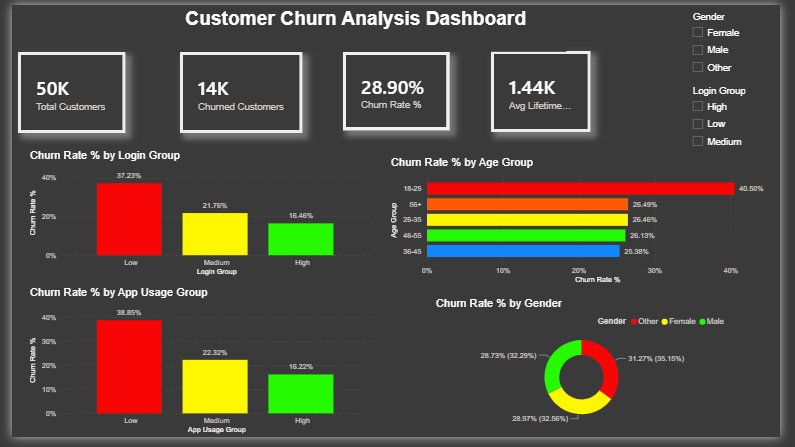

This screenshot's page, from the dashboard's own definition file:
{"tool":"powerbi","page":{"name":"Executive Dashboard","canvas":[1280,720],"ordinal":0},"visuals":[{"type":"clusteredBarChart","fields":{"Category":["ecommerce_customer_churn_dataset.Age Group"],"Y":["ecommerce_customer_churn_dataset.Churn Rate %"]},"box":[627.4,251.3,652.4,217.5],"z":0},{"type":"donutChart","fields":{"Category":["ecommerce_customer_churn_dataset.Gender"],"Y":["ecommerce_customer_churn_dataset.Churn Rate %"]},"box":[700.9,486.4,495.2,217.5],"z":1000},{"type":"clusteredColumnChart","fields":{"Y":["ecommerce_customer_churn_dataset.Churn Rate %"],"Category":["ecommerce_customer_churn_dataset.Login Group"]},"box":[25,239.5,578.9,216],"z":3000},{"type":"clusteredColumnChart","fields":{"Y":["ecommerce_customer_churn_dataset.Churn Rate %"],"Category":["ecommerce_customer_churn_dataset.App Usage Group"]},"box":[25,468.7,578.9,251.3],"z":4000},{"type":"cardVisual","fields":{"Data":["ecommerce_customer_churn_dataset.Total Customers"]},"box":[10.3,77.9,179.3,135.2],"z":5000},{"type":"cardVisual","fields":{"Data":["ecommerce_customer_churn_dataset.Churned Customers"]},"box":[279.2,77.9,204.2,135.2],"z":6000},{"type":"cardVisual","fields":{"Data":["ecommerce_customer_churn_dataset.Churn Rate %"]},"box":[551,77.9,177.8,130.8],"z":7000},{"type":"cardVisual","fields":{"Data":["ecommerce_customer_churn_dataset.Avg Lifetime Value"]},"box":[797.9,76.4,166,135.2],"z":8000},{"type":"textbox","box":[222.2,0,702.2,77.8],"z":9000},{"type":"slicer","fields":{"Values":["ecommerce_customer_churn_dataset.Gender"]},"box":[1121.1,7.3,127.8,123.4],"z":9001},{"type":"slicer","fields":{"Values":["ecommerce_customer_churn_dataset.Login Group"]},"box":[1121.1,130.8,149.9,120.5],"z":9002}]}

Visuals, with their boxes in screenshot pixels (x1, y1, x2, y2), scaled from the page's 1280x720 canvas onto the 795x447 screenshot:
clusteredBarChart - ecommerce_customer_churn_dataset.Age Group x ecommerce_customer_churn_dataset.Churn Rate %: 390/156/794/291
donutChart - ecommerce_customer_churn_dataset.Gender x ecommerce_customer_churn_dataset.Churn Rate %: 435/302/743/437
clusteredColumnChart - ecommerce_customer_churn_dataset.Churn Rate % x ecommerce_customer_churn_dataset.Login Group: 16/149/375/283
clusteredColumnChart - ecommerce_customer_churn_dataset.Churn Rate % x ecommerce_customer_churn_dataset.App Usage Group: 16/291/375/446
cardVisual - ecommerce_customer_churn_dataset.Total Customers: 6/48/118/132
cardVisual - ecommerce_customer_churn_dataset.Churned Customers: 173/48/300/132
cardVisual - ecommerce_customer_churn_dataset.Churn Rate %: 342/48/453/130
cardVisual - ecommerce_customer_churn_dataset.Avg Lifetime Value: 496/47/599/131
textbox: 138/0/574/48
slicer - ecommerce_customer_churn_dataset.Gender: 696/5/776/81
slicer - ecommerce_customer_churn_dataset.Login Group: 696/81/789/156
